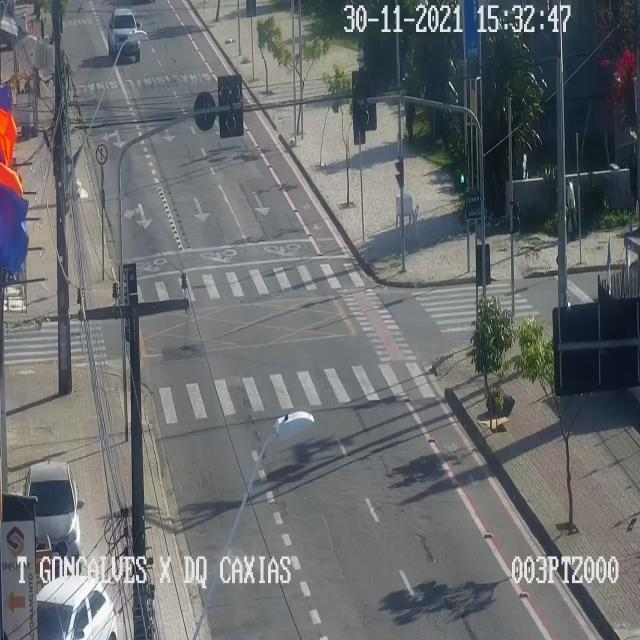Car: (23, 461, 83, 554), (36, 572, 118, 639), (108, 6, 142, 64)
